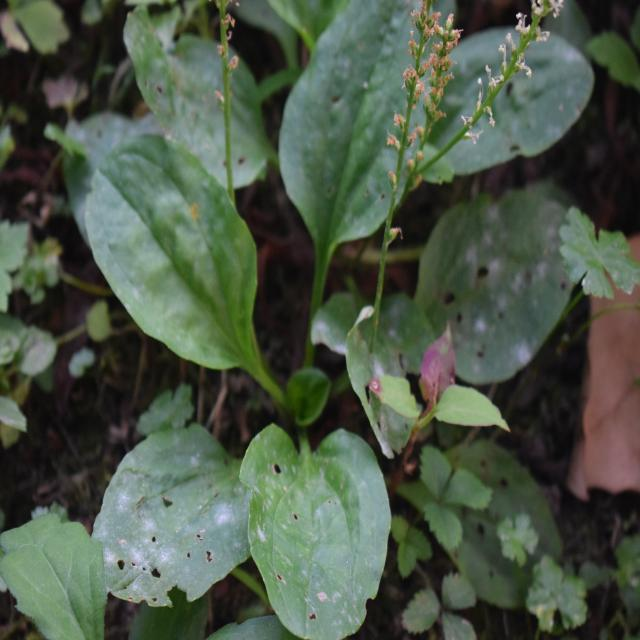plantain: (99, 0, 511, 635)
